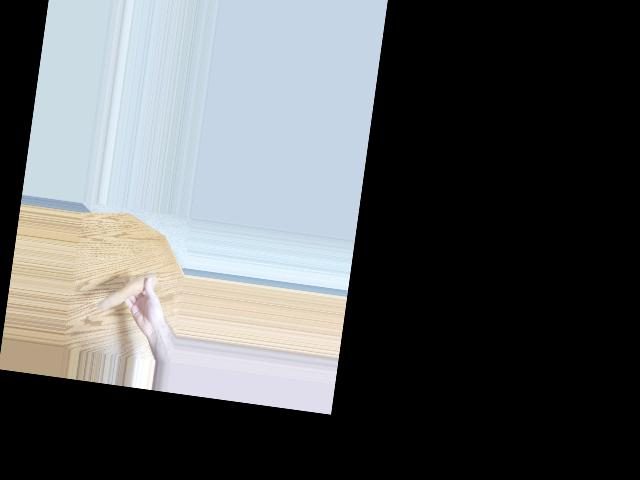sweet_potato: (97, 269, 157, 318)
